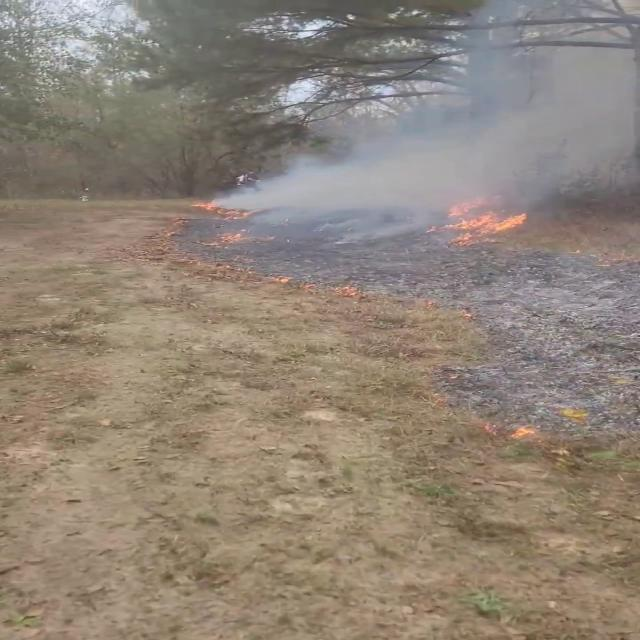Fire: (440, 196, 532, 244)
Smoke: (238, 1, 638, 240)
